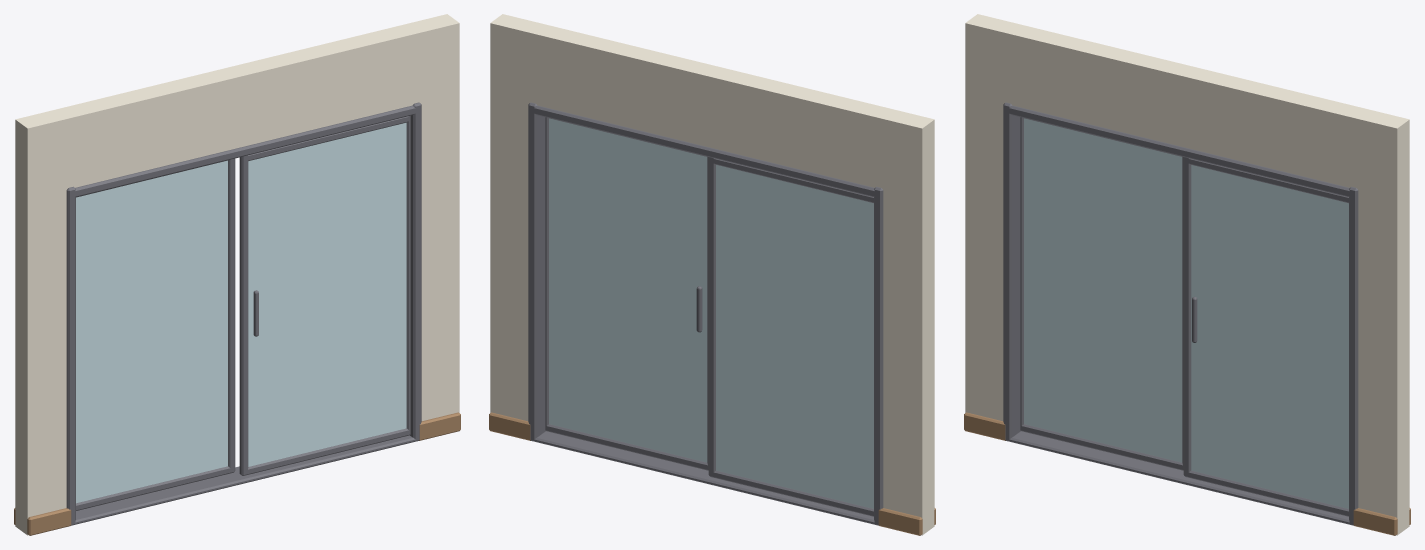
The model's file is cozy-home-interiors-wall-patio-slider-3m-58077f9e.glb.
3 views of the same model, side by side, from view 1: azimuth 30°, elevation 25°; view 2: azimuth 150°, elevation 25°; view 3: azimuth 330°, elevation 25° (orthographic).
Visible parts, largest first — view 1: wall-patio-slider-3m, slider, slider-charcoal; view 2: wall-patio-slider-3m, slider, slider-charcoal; view 3: wall-patio-slider-3m, slider, slider-charcoal.
Part boxes in pixels (bbox=[...]): wall-patio-slider-3m: bbox=[14, 14, 460, 535]; slider: bbox=[248, 122, 406, 466]; slider-charcoal: bbox=[239, 115, 410, 475]; wall-patio-slider-3m: bbox=[489, 14, 935, 535]; slider: bbox=[549, 118, 707, 462]; slider-charcoal: bbox=[545, 117, 708, 470]; wall-patio-slider-3m: bbox=[964, 14, 1410, 535]; slider: bbox=[1191, 165, 1348, 508]; slider-charcoal: bbox=[1183, 157, 1348, 516].
Bounding box in the file's own units: 3 × 2.7 × 0.195.
